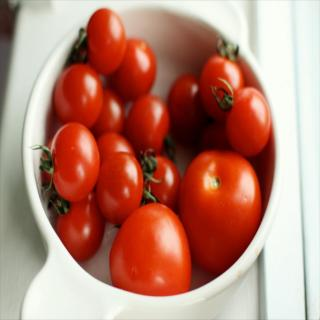tomato: (176, 148, 264, 274), (109, 201, 191, 296), (41, 118, 108, 203), (202, 32, 247, 120), (94, 151, 140, 227), (56, 192, 105, 262), (76, 3, 124, 73), (52, 61, 99, 126), (228, 86, 272, 153), (115, 34, 157, 102), (127, 93, 169, 152), (133, 153, 179, 205), (170, 75, 204, 144), (95, 131, 136, 175), (93, 90, 125, 132), (43, 136, 54, 183)
